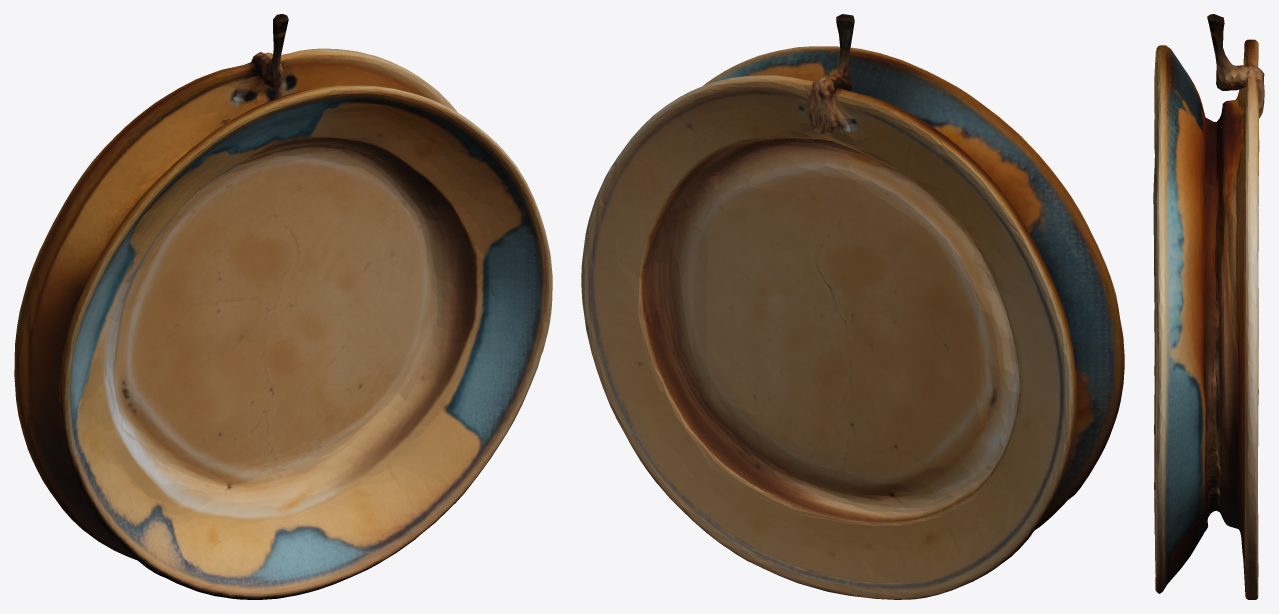
Rendered from ceramic-hanging-wall-plate-used-rustic-worn.jpeg.glb.
The picture shows the model from 3 angles, left to right: view 1: azimuth 30°, elevation 25°; view 2: azimuth 150°, elevation 25°; view 3: azimuth 270°, elevation 25°; orthographic projection.
Parts seen in each view (by area): view 1: world; view 2: world; view 3: world.
Boxes of the visible parts, x1,y1,x2,y2 form: world: (14,14,552,599); world: (581,14,1124,599); world: (1153,14,1264,599).
Size of the model in its own units: 0.9259 by 0.9987 by 0.1817.
Materials: 1 (1 with a texture image).
